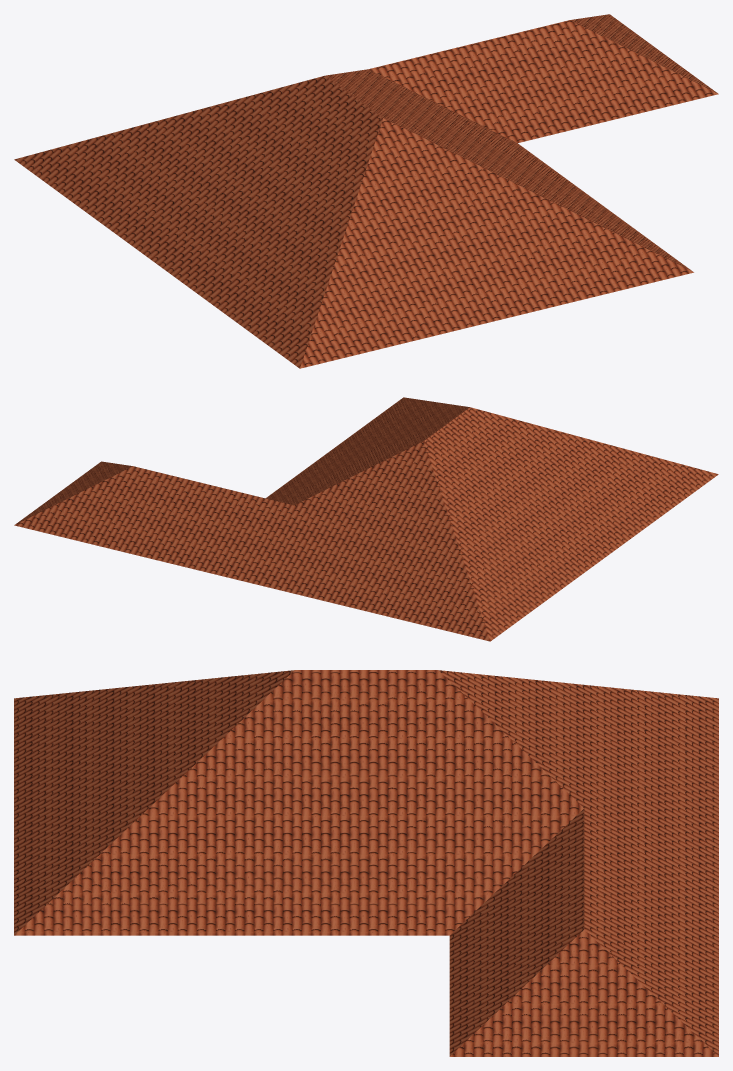
Rendered from telhado34a.dae.
The picture shows the model from 3 angles, top to bottom: view 1: azimuth 30°, elevation 25°; view 2: azimuth 150°, elevation 25°; view 3: azimuth 270°, elevation 25°; orthographic projection. The views are drawn at different scales.
Parts seen in each view (by area): view 1: SketchUp; view 2: SketchUp; view 3: SketchUp.
Boxes of the visible parts, x1,y1,x2,y2 form: SketchUp: (14, 14, 718, 368); SketchUp: (14, 397, 718, 641); SketchUp: (14, 670, 718, 1056).
Size of the model in its own units: 583 by 484 by 111.
2 materials, 1 textured.
